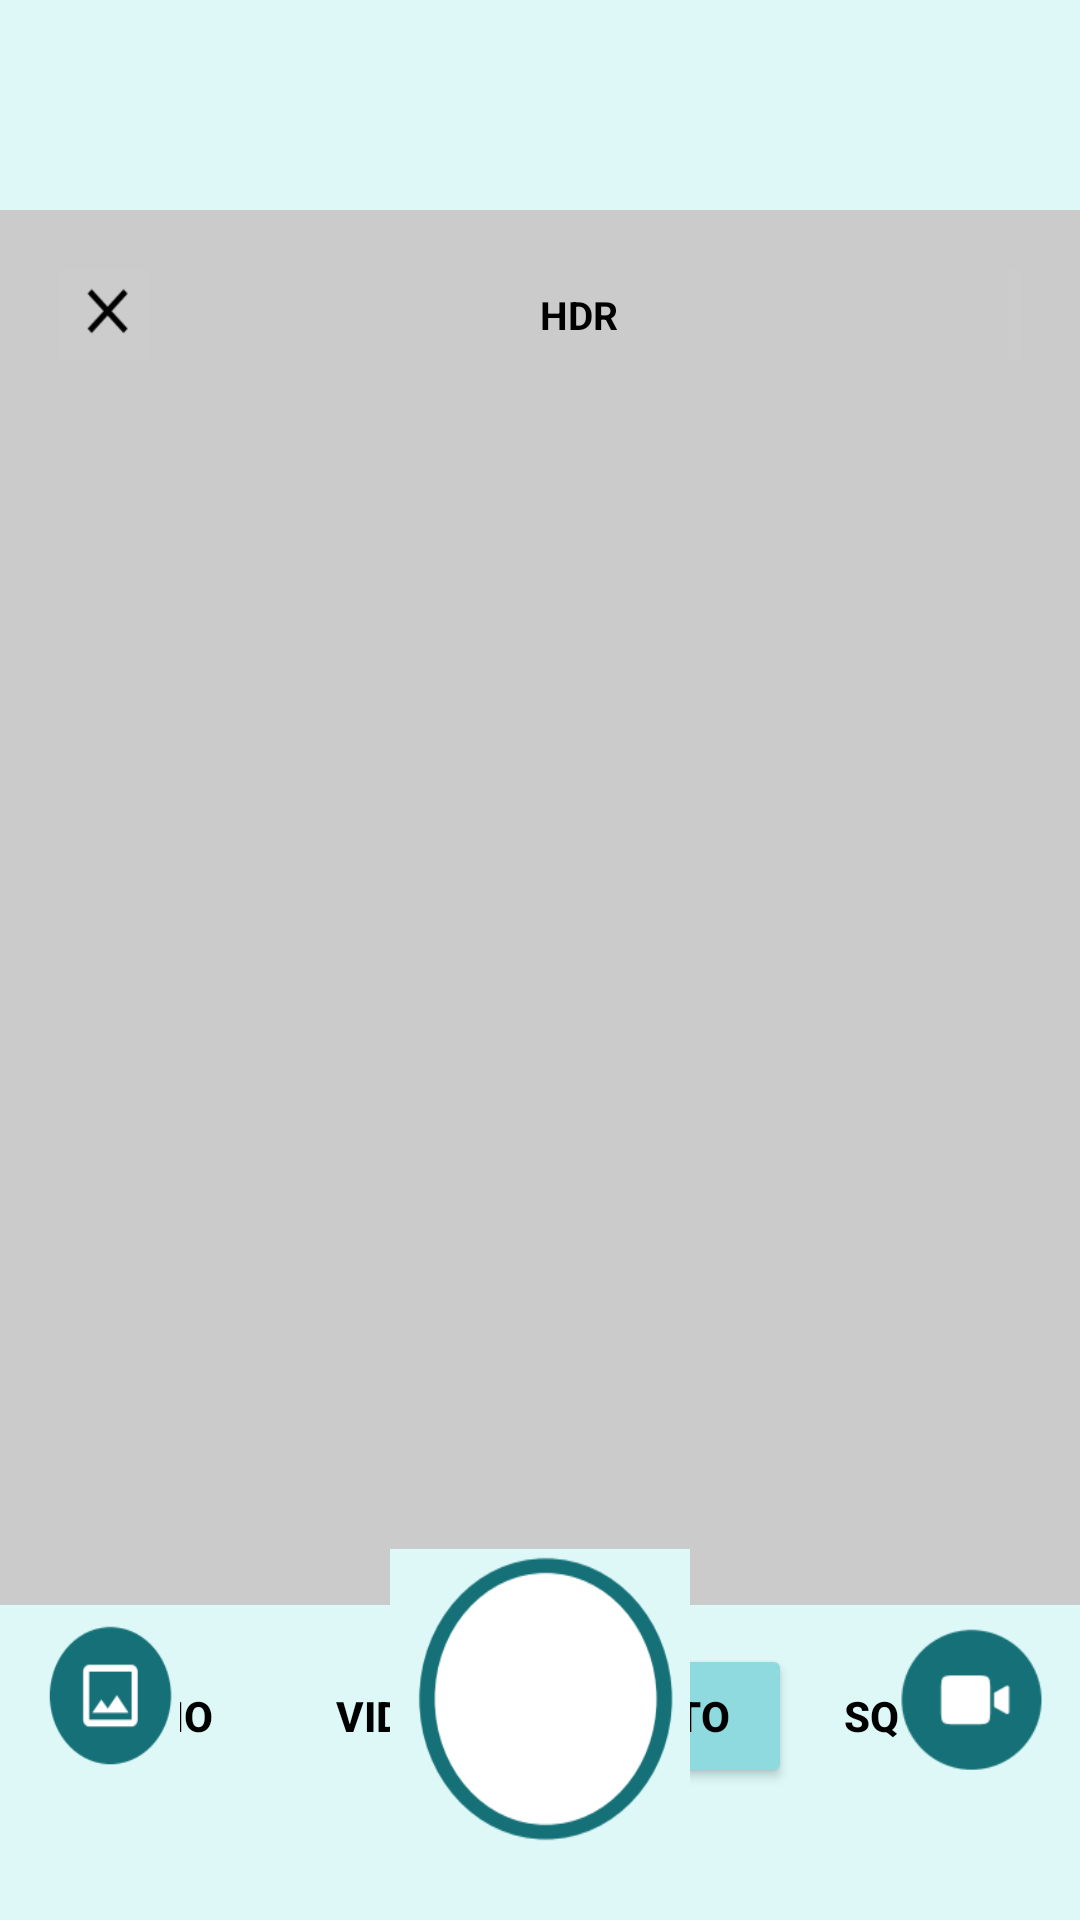

Screen size 1080x1920. Icon name, then its box in pixels as BBox(x1, y1, x2, y2):
camera cross: BBox(87, 289, 128, 333)
